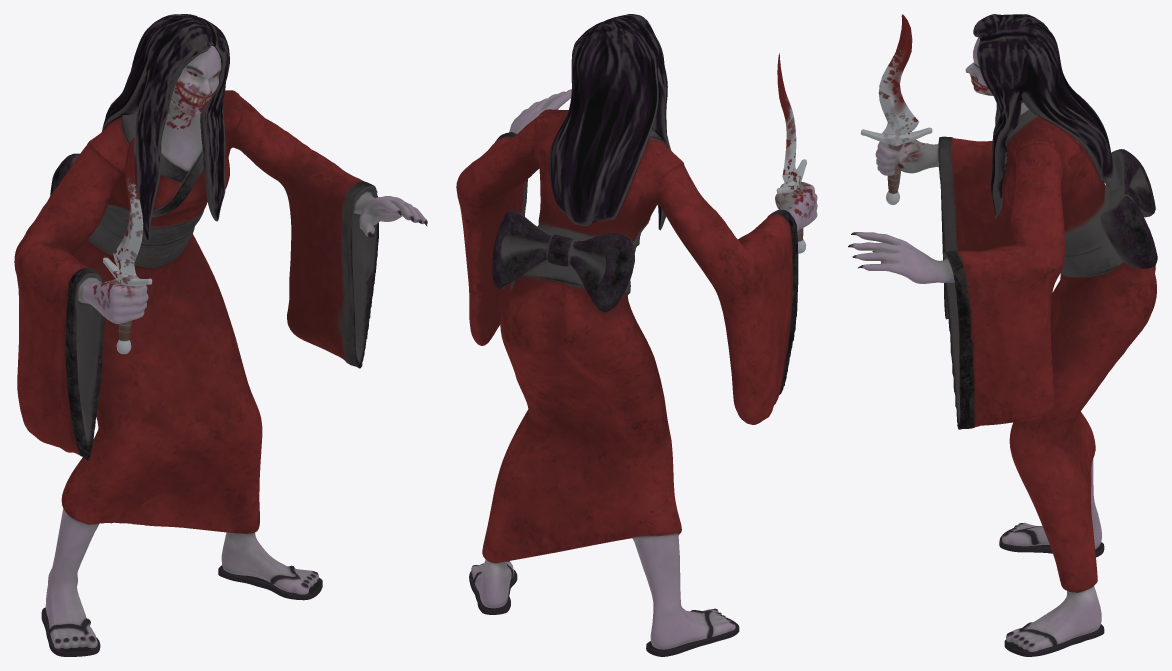
File: MZ4250 - Kuchisake-Onna w dagger.glb
3 renders of one model, left to right at view 1: azimuth 30°, elevation 25°; view 2: azimuth 150°, elevation 25°; view 3: azimuth 270°, elevation 25°, orthographic. The views are drawn at different scales.
Parts seen in each view (by area): view 1: Body.004; view 2: Body.004; view 3: Body.004.
Boxes of the visible parts, left/top/right/bottom form: Body.004: left=14, top=14, right=427, bottom=656; Body.004: left=456, top=14, right=817, bottom=656; Body.004: left=848, top=14, right=1157, bottom=656.
Bounding box in the file's own units: 16.9 × 30.11 × 14.79.
5 materials, 5 textured.
